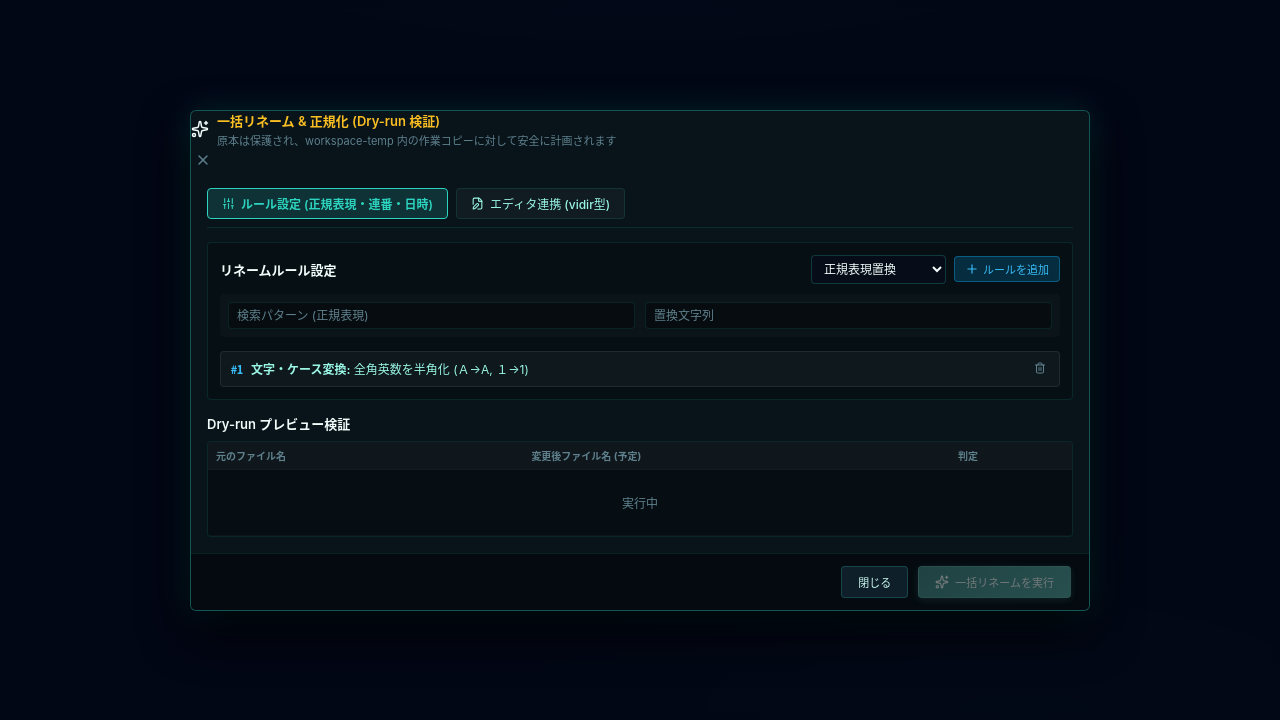
BulkRenameModal (Phase 5.1 & 5.2) › supports switching to vidir editor mode and renders textarea
Click the button "エディタ連携 (vidir型)". click: click(541, 203)
box: [456,188,625,218]
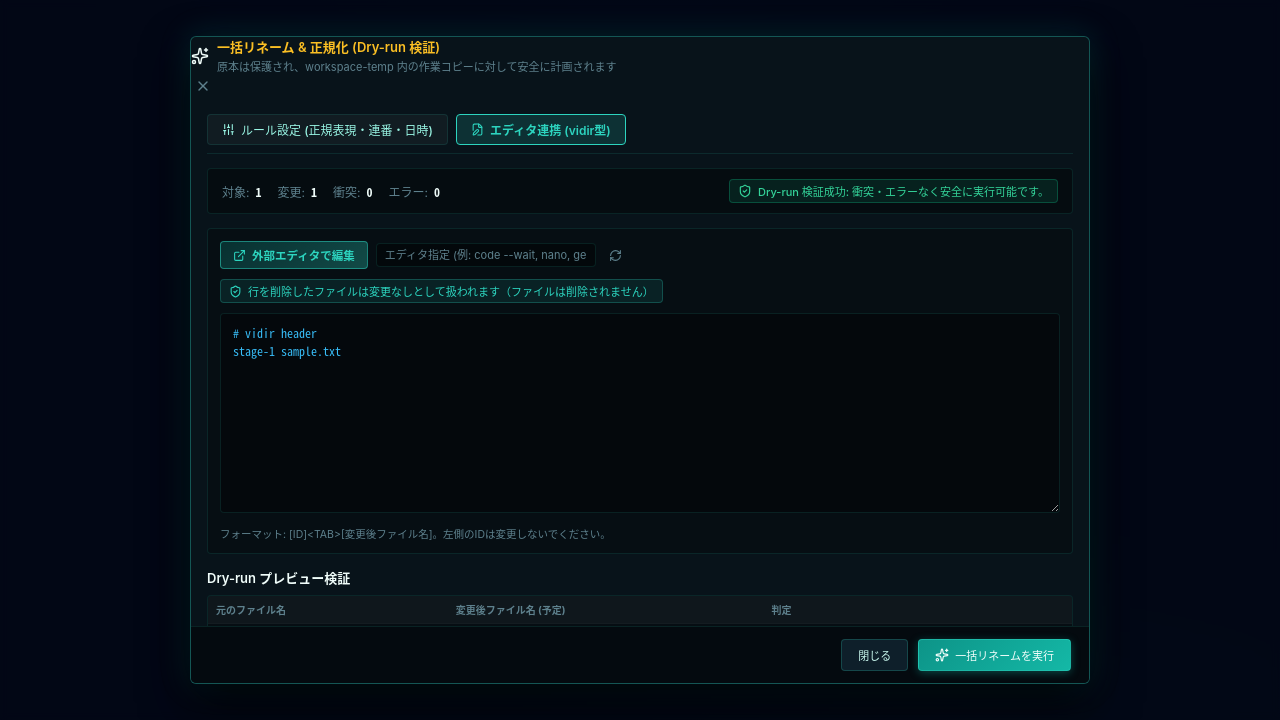
Expected: the text "行を削除したファイルは変更なしとして扱われます（ファイルは削除されません）" is shown, [248,283,654,299]
Expected: the button "外部エディタで編集" is shown, [220,241,368,269]
